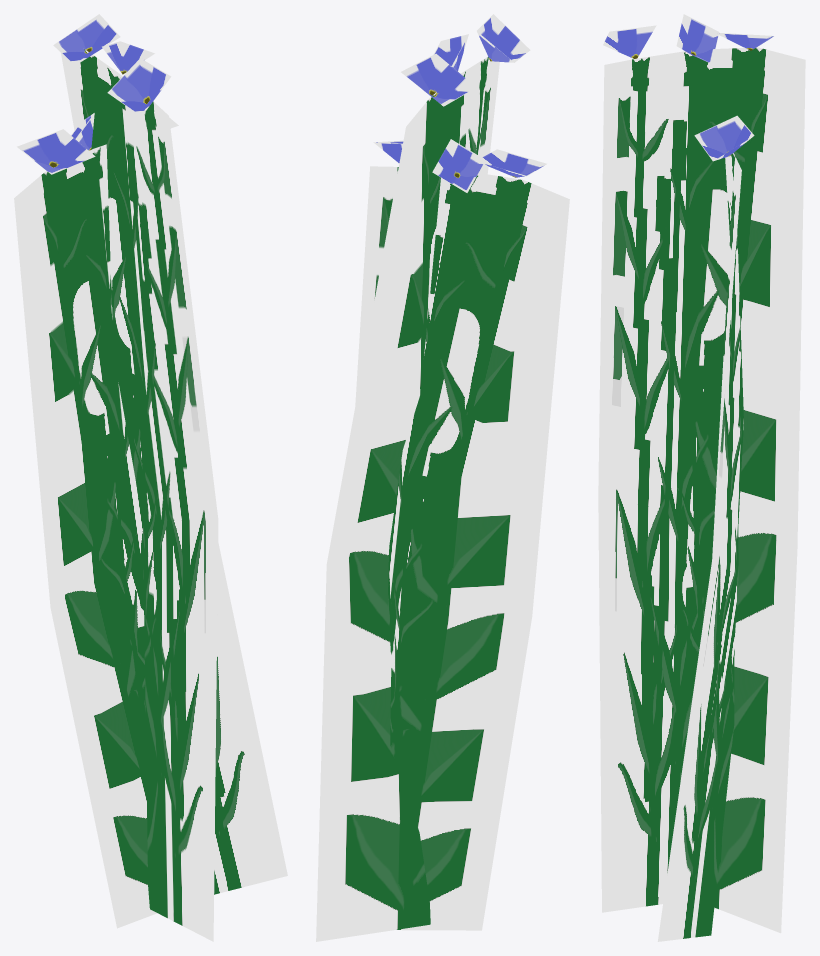
The model's file is PT_Flax_02.fbx.
3 views of the same model, side by side, from view 1: azimuth 30°, elevation 25°; view 2: azimuth 150°, elevation 25°; view 3: azimuth 270°, elevation 25° (orthographic). The views are drawn at different scales.
Visible parts, largest first — view 1: PT_Flax_02_LOD0; view 2: PT_Flax_02_LOD0; view 3: PT_Flax_02_LOD0.
Part boxes in pixels (left/top/right/bottom): PT_Flax_02_LOD0: left=14, top=14, right=287, bottom=941; PT_Flax_02_LOD0: left=316, top=14, right=569, bottom=941; PT_Flax_02_LOD0: left=598, top=14, right=805, bottom=941.
Size of what is drawn, in the model's own units: 35.78 by 118 by 25.25.
